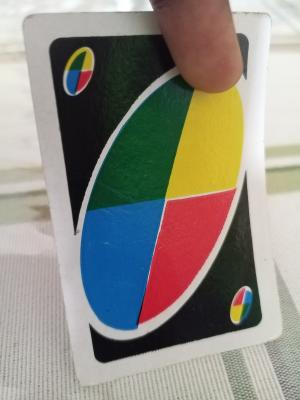wild: (66, 53, 252, 290), (54, 45, 105, 100), (57, 47, 100, 99), (225, 282, 259, 328)
